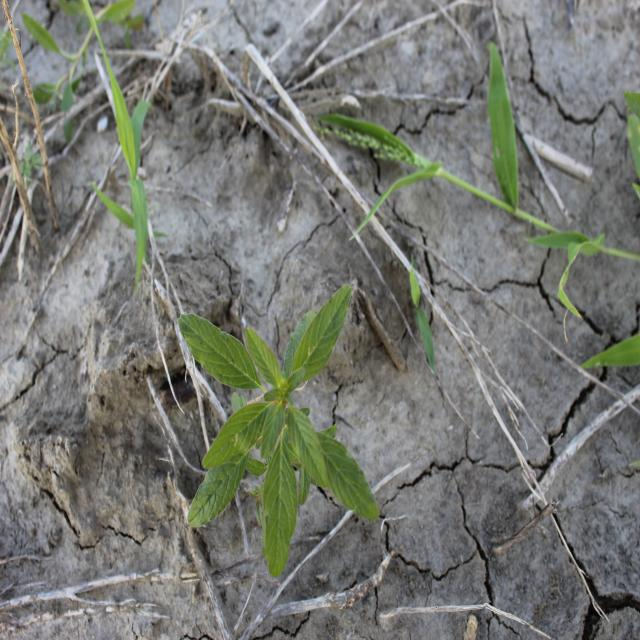Waterhemp: (175, 280, 381, 579)
